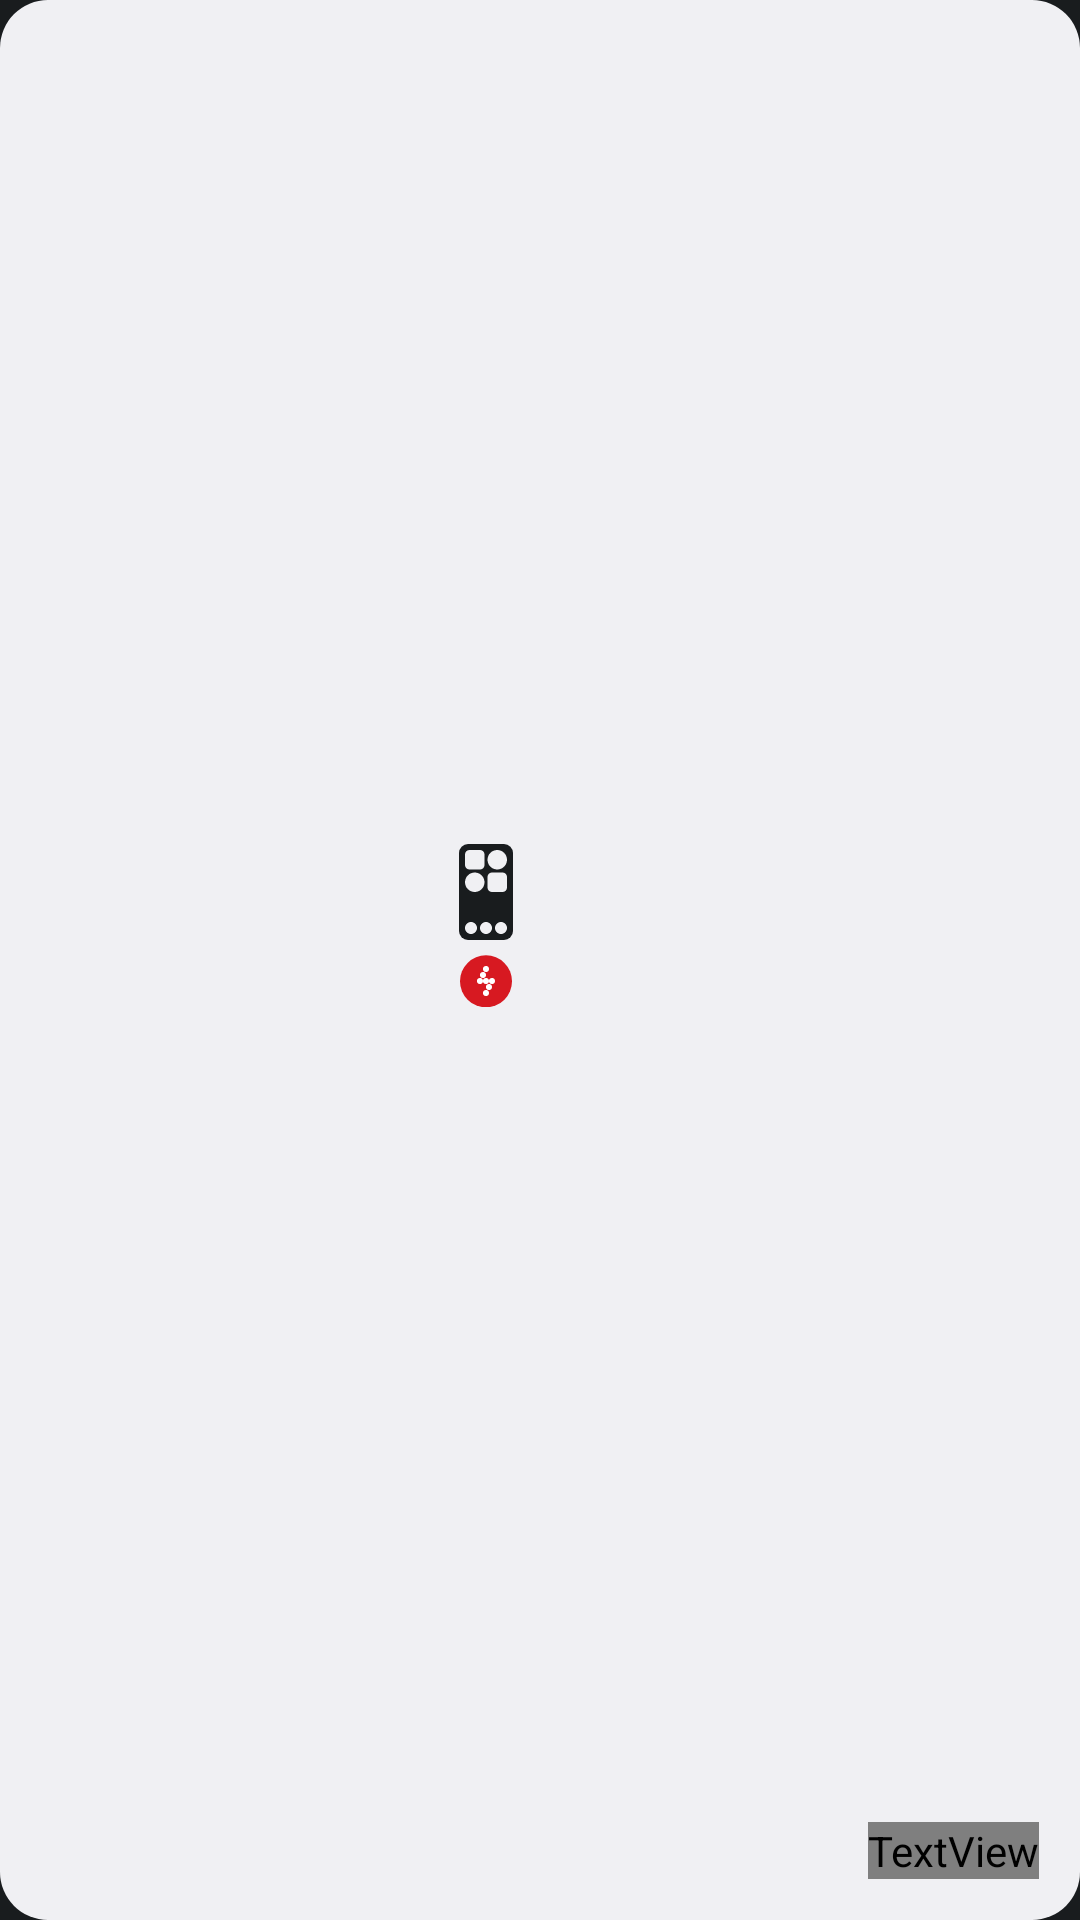

Where to tap for icons on this 1080w x 1920h app screen, as point (x, y):
device phone: point (486, 892)
